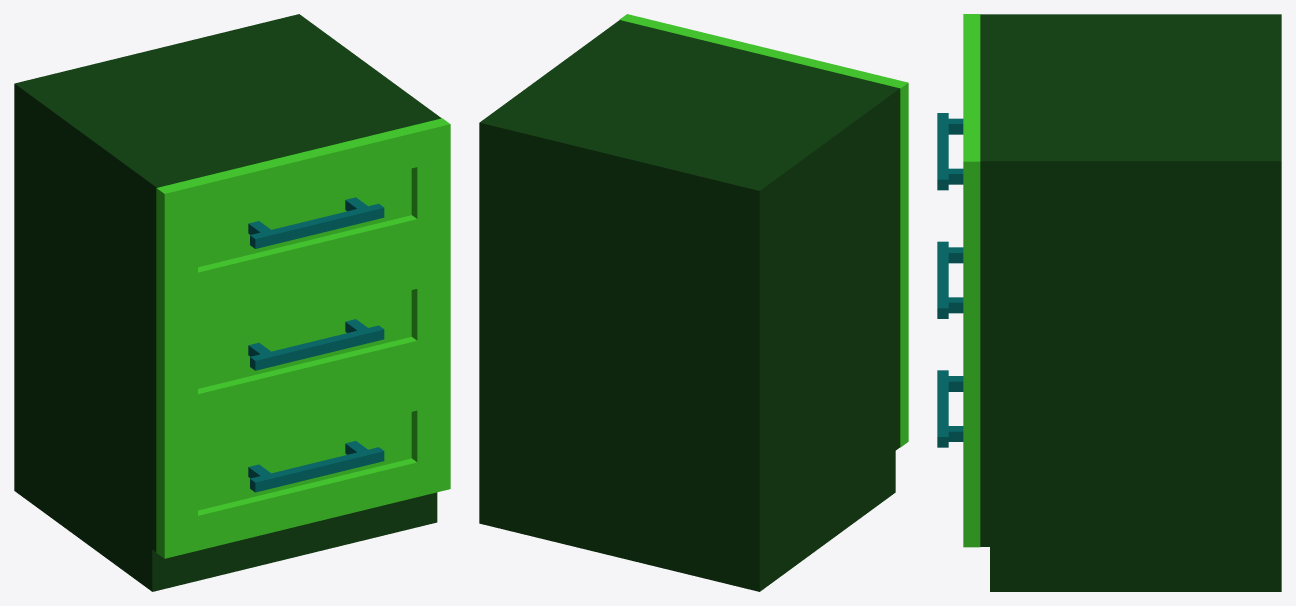
The model's file is CustomMeshCollision_Kitchen_Furniture_CounterWithDrawers.fbx.
The picture shows the model from 3 angles, left to right: view 1: azimuth 30°, elevation 25°; view 2: azimuth 150°, elevation 25°; view 3: azimuth 270°, elevation 25°; orthographic projection. The views are drawn at different scales.
Parts seen in each view (by area): view 1: CounterWithDrawers_MeshCollision; view 2: CounterWithDrawers_MeshCollision; view 3: CounterWithDrawers_MeshCollision.
Boxes of the visible parts, x1,y1,x2,y2 form: CounterWithDrawers_MeshCollision: [14, 14, 450, 591]; CounterWithDrawers_MeshCollision: [479, 14, 908, 591]; CounterWithDrawers_MeshCollision: [937, 14, 1281, 591].
Bounding box in the file's own units: 60.22 × 82 × 59.44.
